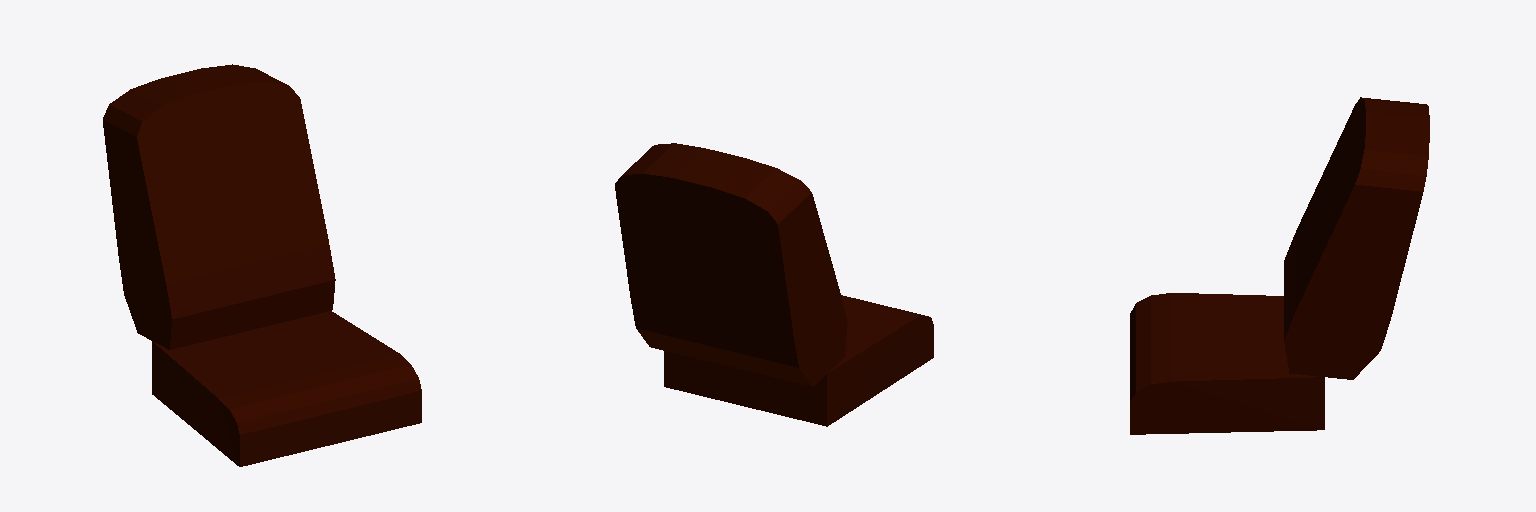
The model's file is Chair5.obj.
3 renders of one model, left to right at view 1: azimuth 30°, elevation 25°; view 2: azimuth 150°, elevation 25°; view 3: azimuth 270°, elevation 25°, orthographic.
Visible parts, largest first — view 1: Chair5_Cube.004; view 2: Chair5_Cube.004; view 3: Chair5_Cube.004.
Part boxes in pixels (bbox=[...]): Chair5_Cube.004: bbox=[103, 64, 421, 466]; Chair5_Cube.004: bbox=[615, 143, 933, 426]; Chair5_Cube.004: bbox=[1130, 97, 1429, 434].
Bounding box in the file's own units: 3.94 × 5.55 × 5.6.